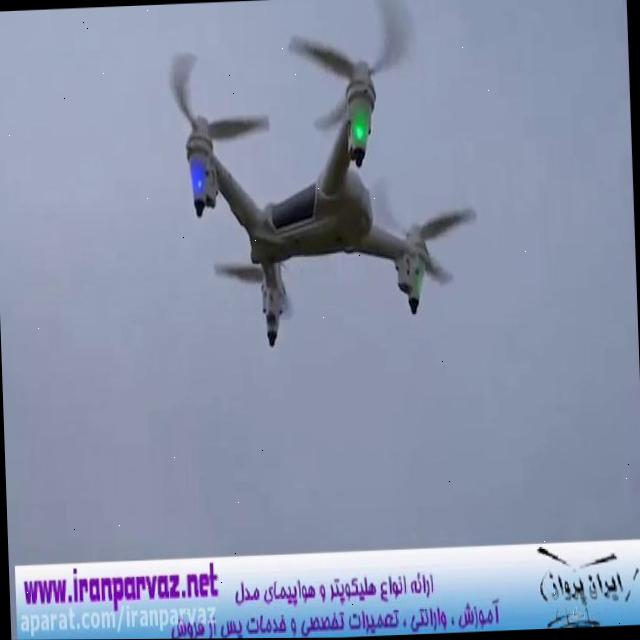drone: (159, 0, 487, 365)
